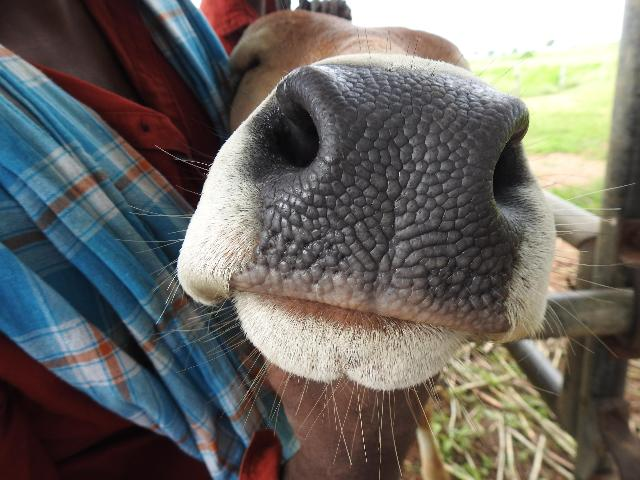Muzzle: (318, 74, 492, 314)
